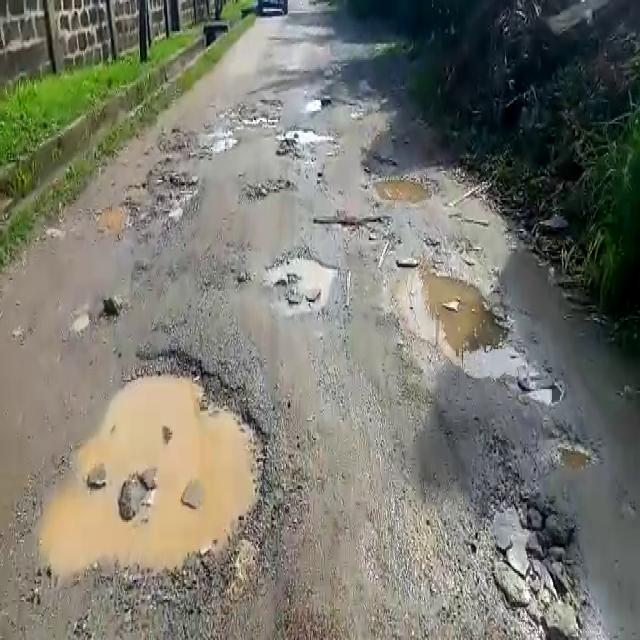Pothole: (36, 346, 275, 584), (394, 246, 506, 361), (96, 172, 200, 237), (269, 250, 331, 310), (457, 342, 538, 381), (544, 426, 599, 477), (314, 213, 397, 246), (371, 168, 436, 206), (276, 122, 336, 150), (194, 126, 241, 157), (520, 380, 568, 409), (243, 176, 295, 201)
